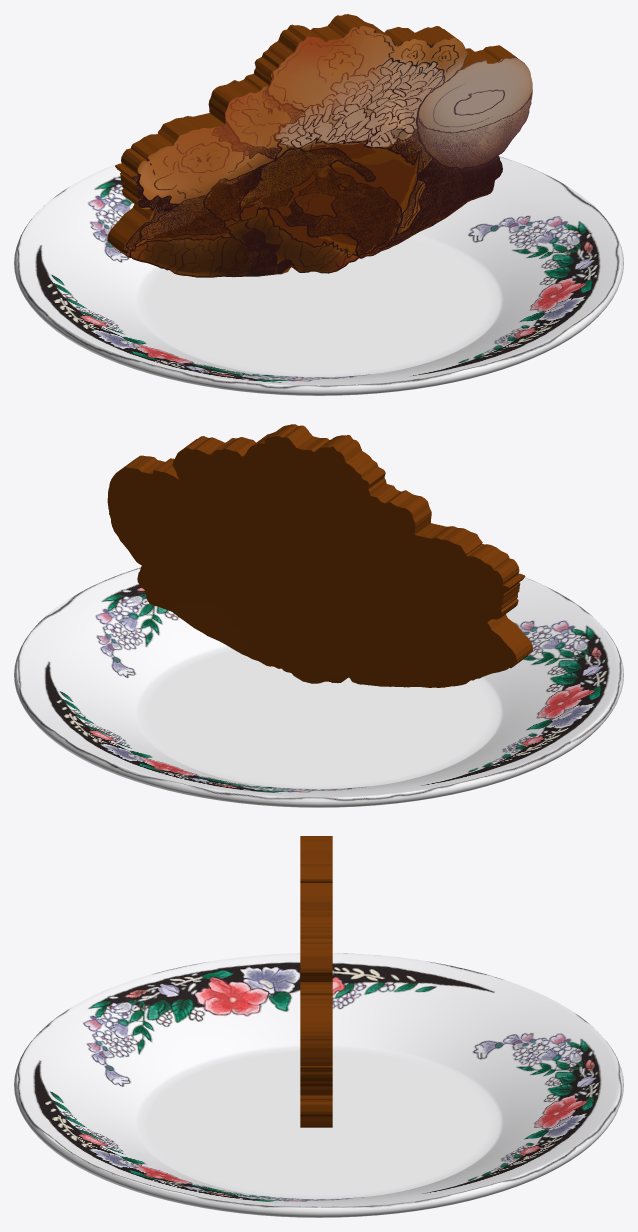
The model's file is Carne en posta.glb.
The picture shows the model from 3 angles, top to bottom: view 1: azimuth 30°, elevation 25°; view 2: azimuth 150°, elevation 25°; view 3: azimuth 270°, elevation 25°; orthographic projection.
Visible parts, largest first — view 1: Plato.001, Carne en posta; view 2: Plato.001, Carne en posta; view 3: Plato.001, Carne en posta.
Part boxes in pixels (left/top/right/bottom): Plato.001: left=14, top=156, right=623, bottom=395; Carne en posta: left=107, top=14, right=532, bottom=277; Plato.001: left=14, top=567, right=623, bottom=807; Carne en posta: left=107, top=424, right=532, bottom=687; Plato.001: left=14, top=953, right=623, bottom=1217; Carne en posta: left=300, top=836, right=332, bottom=1127.
Size of the model in its own units: 18.56 by 9.62 by 18.56.
2 materials, 2 textured.
